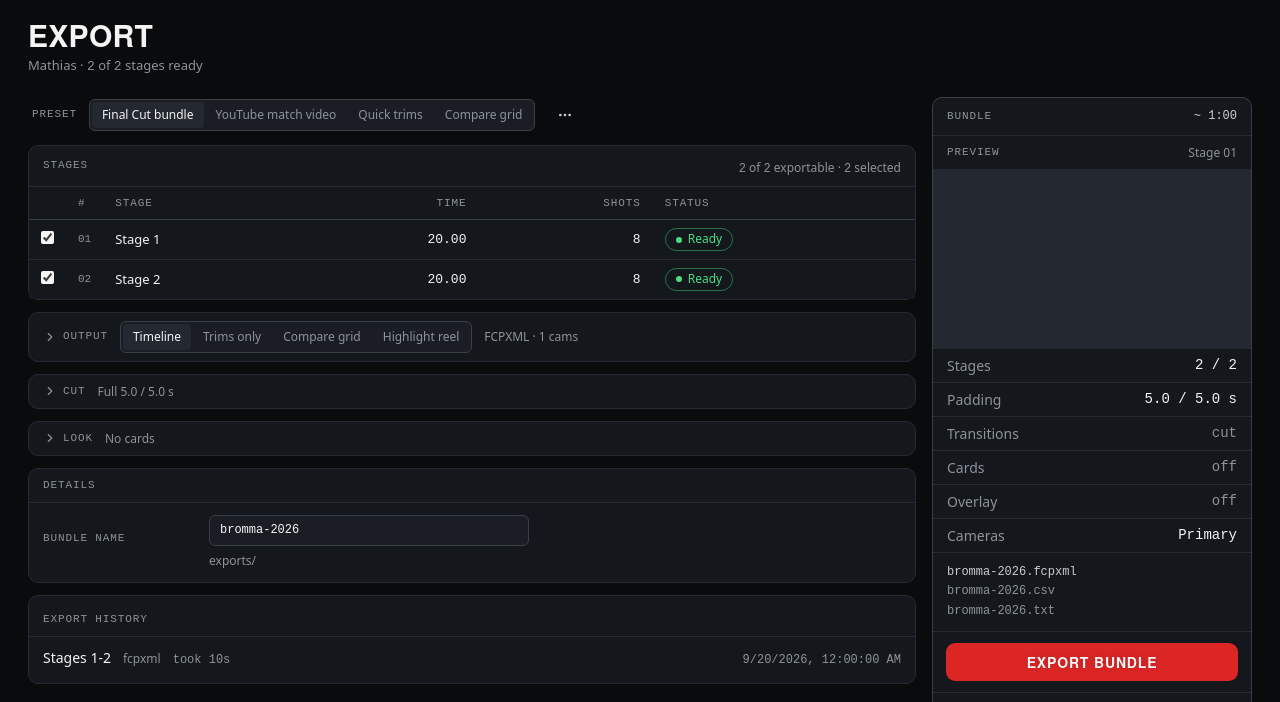
Test: Export presets › on a two-shooter match the compare preset applies and switches the mode
Expected: the button "Export bundle" is shown, 947,644 -> 1237,680
Expected: the checkbox named "Stage 2" is checked, 41,271 -> 54,284
Click the button "Compare grid" in the row of "Preset": coordinates (484, 114) 435,102 -> 532,128
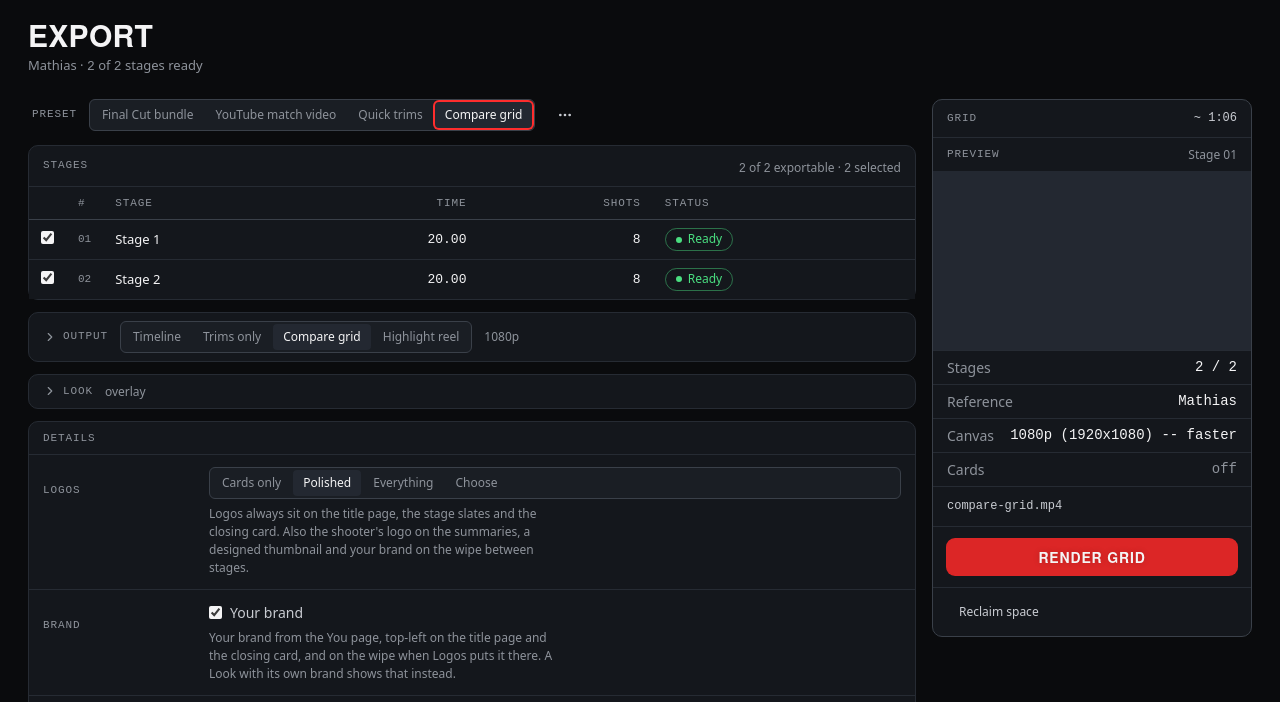
Now the button "Render grid" is shown, box 947,539 -> 1237,575
